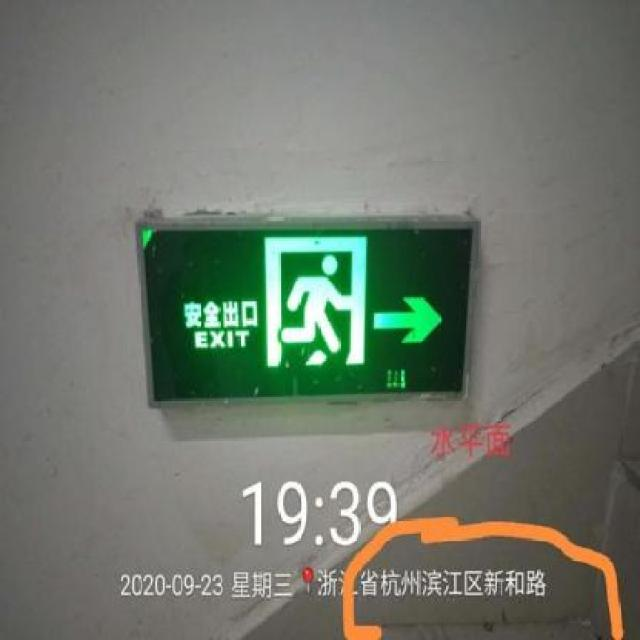exit_sign: (126, 217, 483, 410)
